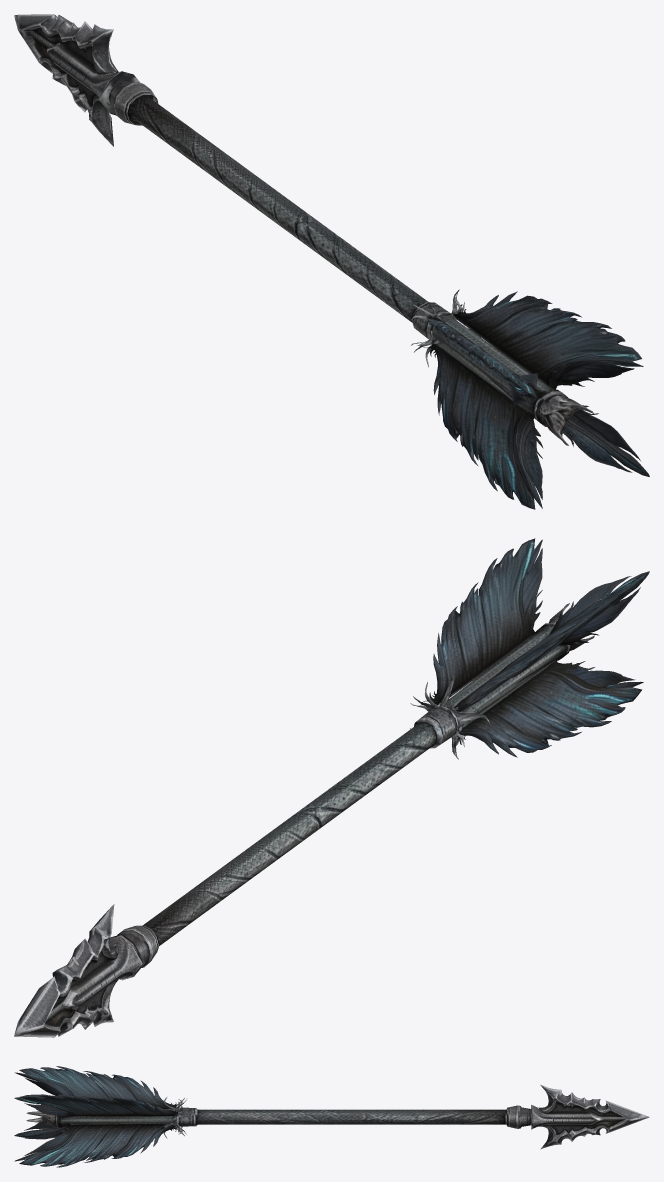
File: freccia_ferro.glb
3 renders of one model, top to bottom at view 1: azimuth 30°, elevation 25°; view 2: azimuth 150°, elevation 25°; view 3: azimuth 270°, elevation 25°, orthographic. The views are drawn at different scales.
Visible parts, largest first — view 1: Freccia_ferro; view 2: Freccia_ferro; view 3: Freccia_ferro.
Part boxes in pixels (x1,y1,x2,y2): Freccia_ferro: (14, 14, 649, 509); Freccia_ferro: (14, 538, 649, 1037); Freccia_ferro: (14, 1066, 649, 1167).
Size of the model in its own units: 0.0913 by 0.0905 by 0.7.
Materials: 1 (1 with a texture image).
